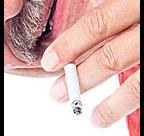Cigarette: (62, 62, 83, 114)
